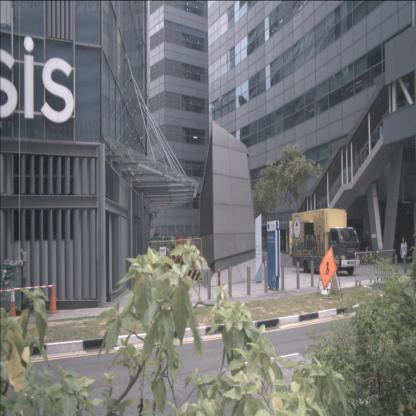cone: (6, 285, 19, 324), (47, 283, 59, 314)
